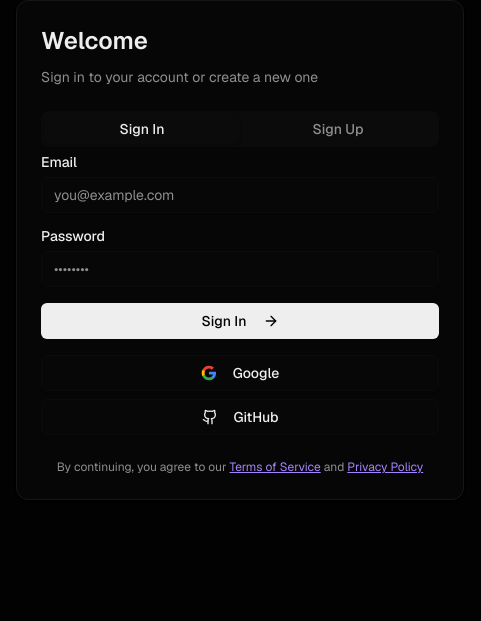
AuthFormWithQuery - Password Confirmation › Password Confirmation Field › should clear error when user corrects confirm password
Click the tab "Sign Up" at (338, 129), box [240,114,436,144]
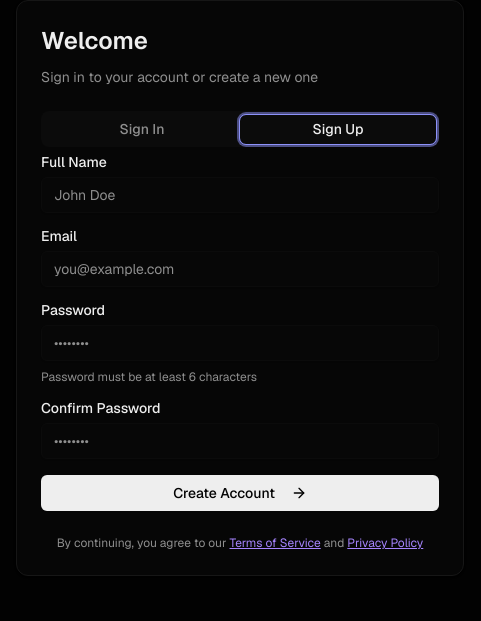
Type "password123" into the password field with id "signup-password" at (240, 343), box [41,325,439,361]
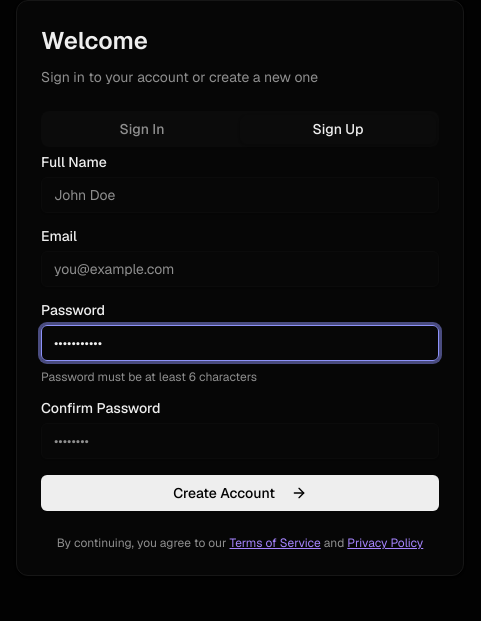
Type "wrongpassword" into the password field with id "signup-confirm-password" at (240, 441), box [41,423,439,459]
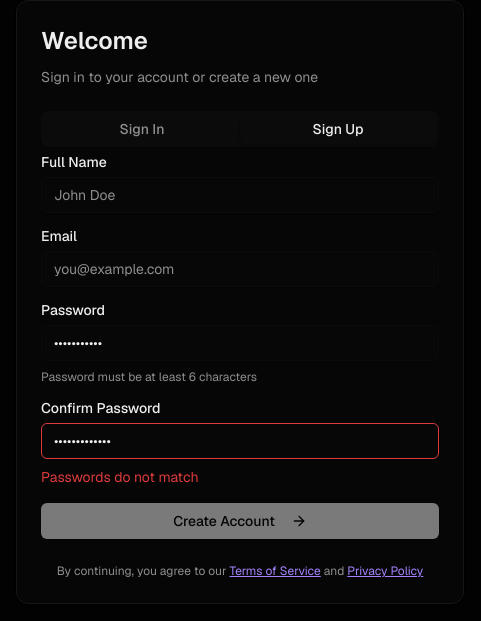
Check: the text "Passwords do not match" is shown, box [41,468,198,486]
# Clear and retype correct password
Type "password123" into the password field with id "signup-confirm-password" at (240, 441), box [41,423,439,459]
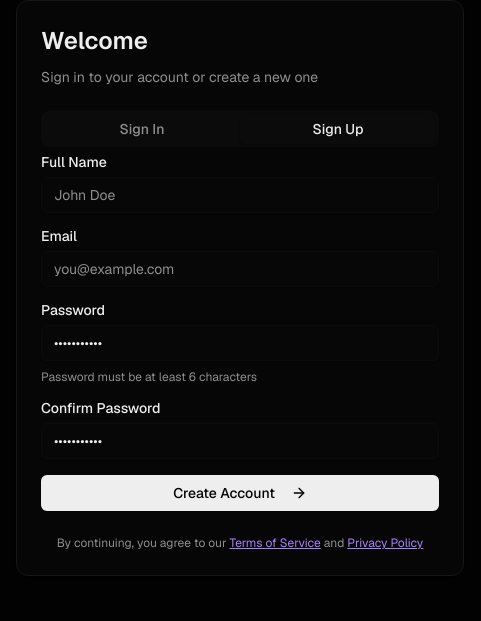
Check: the text "Passwords do not match" is gone
